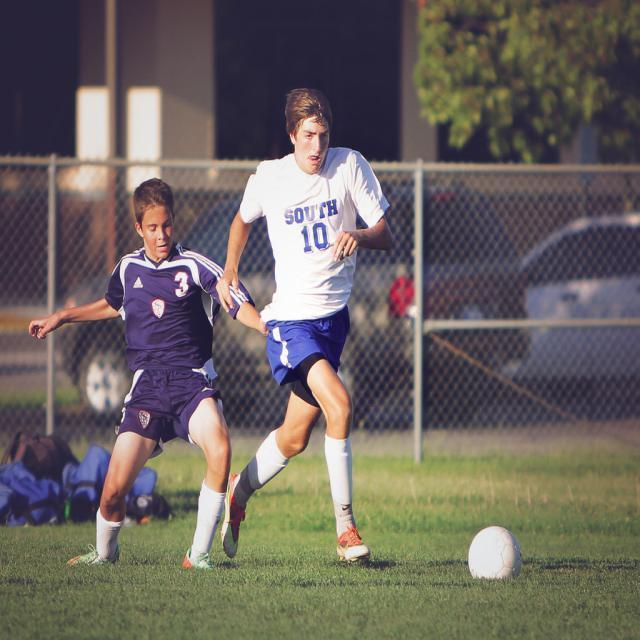ball: (464, 525, 524, 586)
